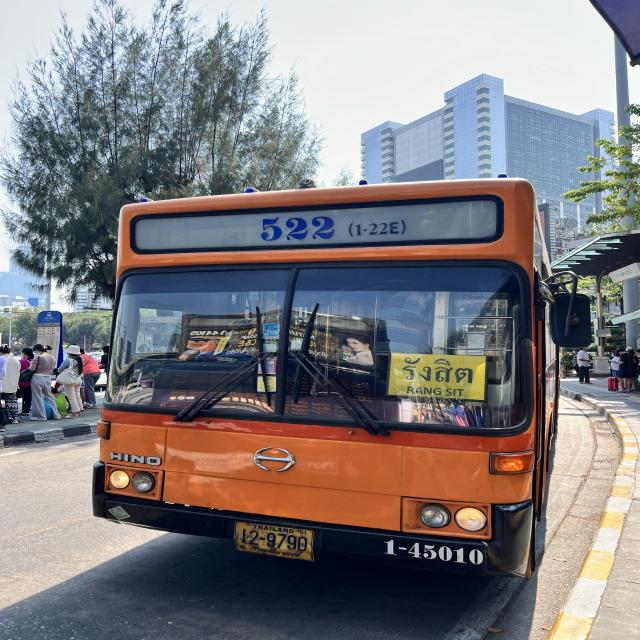BMTA-bus: (92, 179, 560, 579)
Bus-Line-Number: (253, 213, 412, 245)
Destination-Sign-Normal-Expressway: (388, 350, 488, 404)
